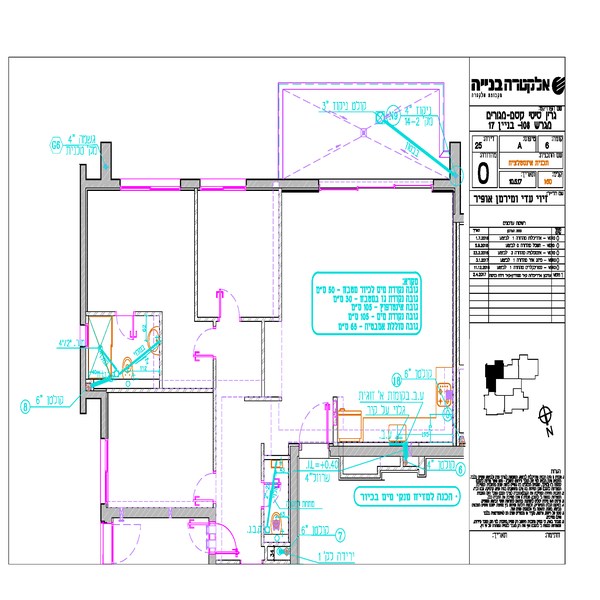door: (299, 394, 335, 451), (186, 326, 227, 364), (211, 519, 248, 561), (213, 284, 245, 325), (189, 465, 225, 501)
room: (276, 174, 467, 465), (74, 175, 285, 405), (92, 387, 220, 517)
wall: (330, 446, 464, 467), (98, 505, 216, 522), (78, 166, 89, 327), (288, 446, 298, 563), (246, 179, 320, 192), (101, 143, 117, 191), (98, 388, 110, 438), (78, 347, 85, 413), (179, 180, 203, 190)
window: (119, 176, 183, 192), (98, 439, 109, 504), (205, 175, 250, 190)
